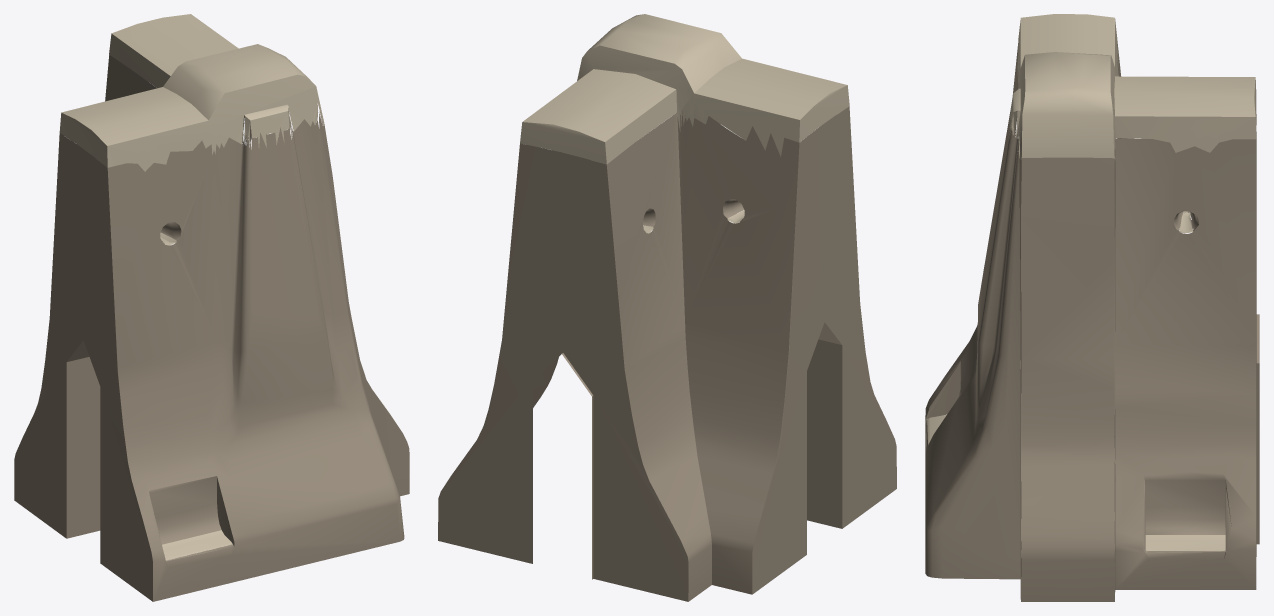
The model's file is stone-wall-nw.glb.
The picture shows the model from 3 angles, left to right: view 1: azimuth 30°, elevation 25°; view 2: azimuth 150°, elevation 25°; view 3: azimuth 270°, elevation 25°; orthographic projection. The views are drawn at different scales.
Parts seen in each view (by area): view 1: body; view 2: body; view 3: body.
Boxes of the visible parts, x1,y1,x2,y2 form: body: (14, 14, 409, 601); body: (438, 14, 896, 601); body: (925, 14, 1259, 601).
Bounding box in the file's own units: 0.9379 × 1.32 × 0.8718.
